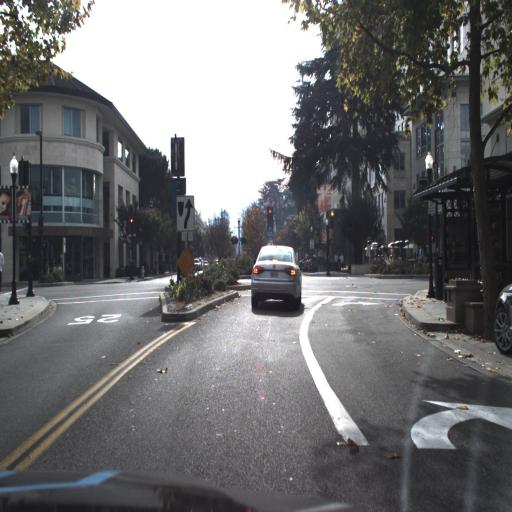car: (250, 245, 302, 311), (494, 277, 512, 358)
trafficLight-Red: (265, 204, 276, 232), (124, 211, 135, 236), (127, 217, 135, 240), (268, 207, 274, 228), (329, 210, 335, 228)
